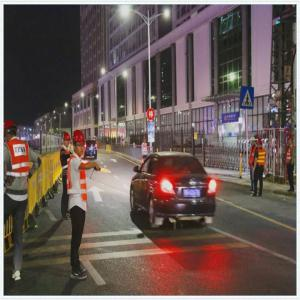red: (72, 131, 86, 157), (5, 119, 18, 145), (63, 132, 72, 148), (257, 138, 264, 150), (289, 135, 295, 146), (144, 137, 148, 144)
white: (251, 136, 256, 147)
